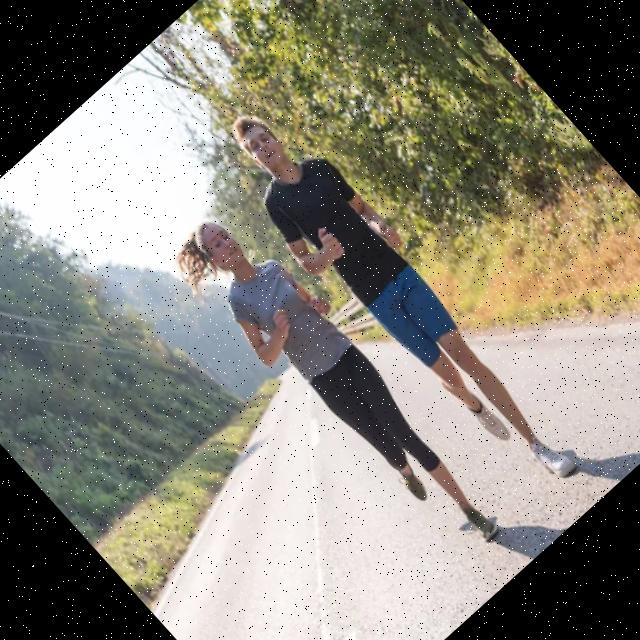Person: (199, 92, 595, 517), (163, 192, 522, 576)
